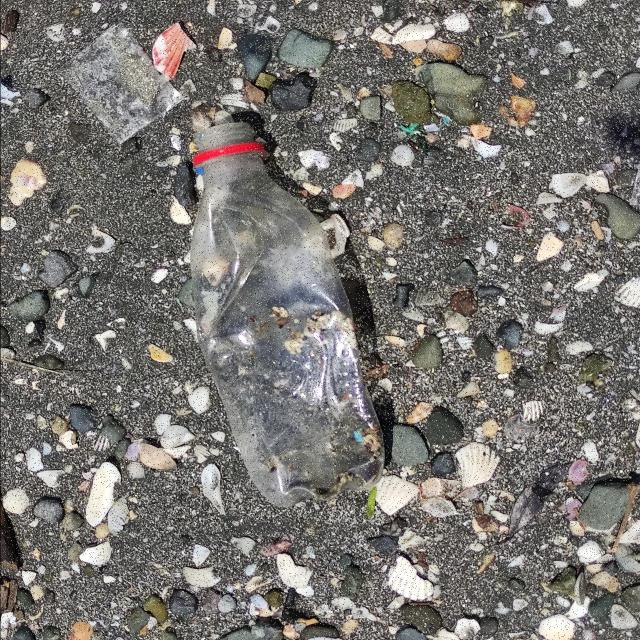plastic_waste: (187, 122, 387, 509)
